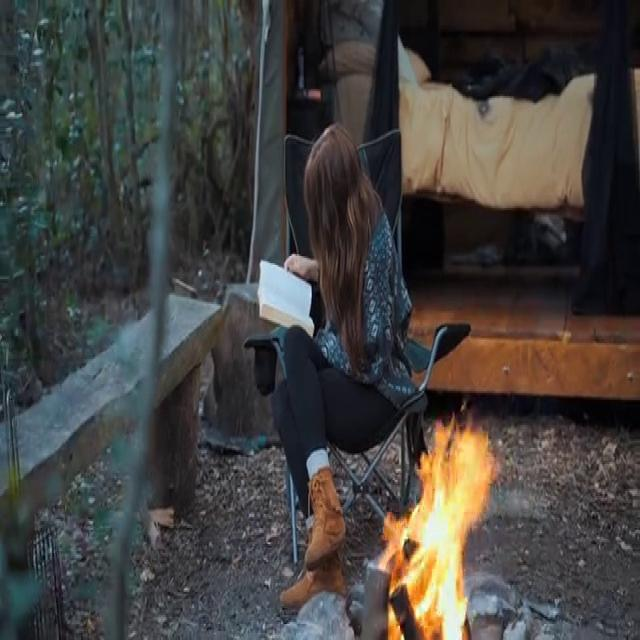Fire: (378, 407, 500, 638)
